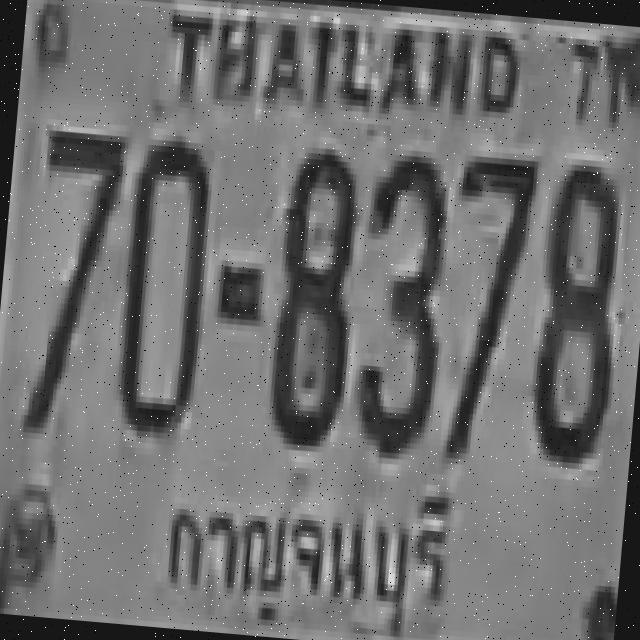0: (110, 132, 212, 434)
3: (349, 147, 452, 456)
7: (19, 124, 122, 432), (437, 149, 537, 457)
8: (524, 156, 626, 459), (263, 140, 362, 442)
Kanchanaburi: (150, 464, 460, 632)
